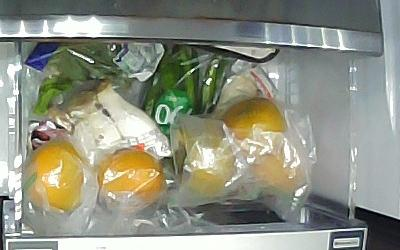persimmon_vinyl: (171, 123, 235, 200), (28, 141, 83, 213), (96, 147, 163, 206), (223, 97, 286, 151), (249, 151, 303, 196)
